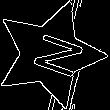N_W: (18, 27, 81, 82)
